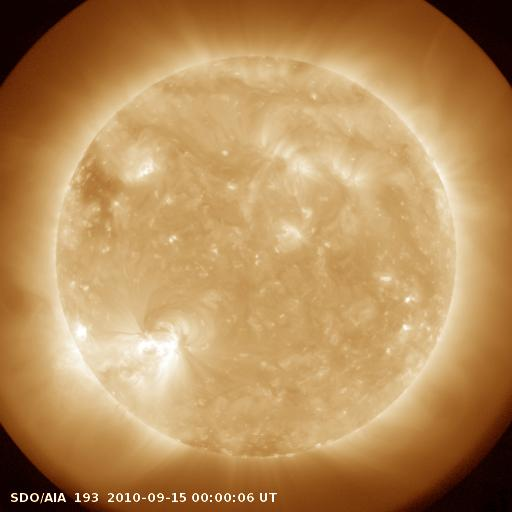coronal_hole: (65, 137, 129, 216)
